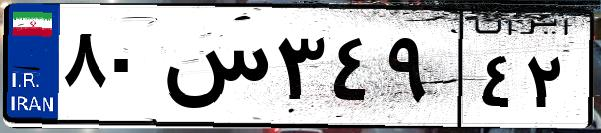0: (110, 28, 158, 98)
2: (525, 38, 570, 115)
3: (270, 28, 330, 110)
4: (330, 28, 385, 110), (475, 38, 525, 113)
8: (57, 26, 110, 100)
9: (385, 28, 445, 110)
س: (158, 20, 270, 120)
